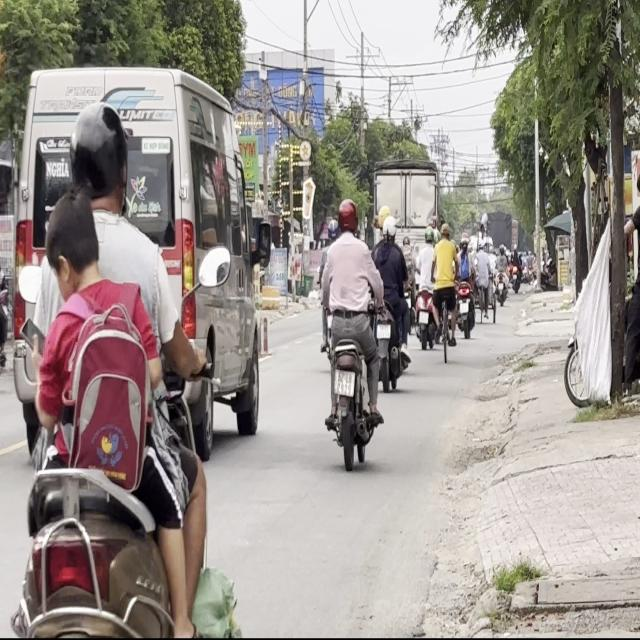helmet: (67, 102, 130, 210), (337, 198, 358, 234)
licenseplate: (3, 95, 228, 636), (316, 195, 384, 468)
motorcyclist: (44, 190, 100, 305)
nohelmet: (334, 368, 354, 395)
